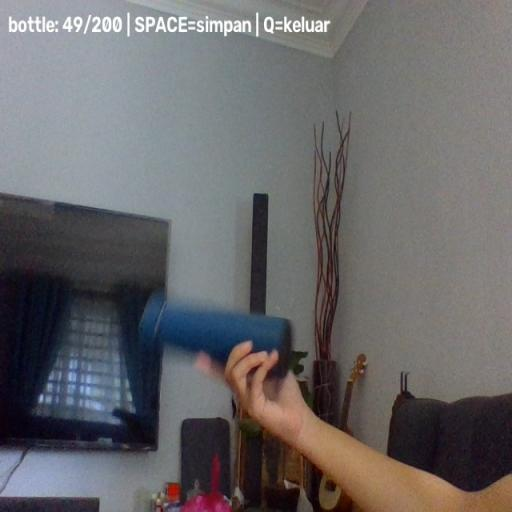Bottle: (140, 289, 294, 381)
